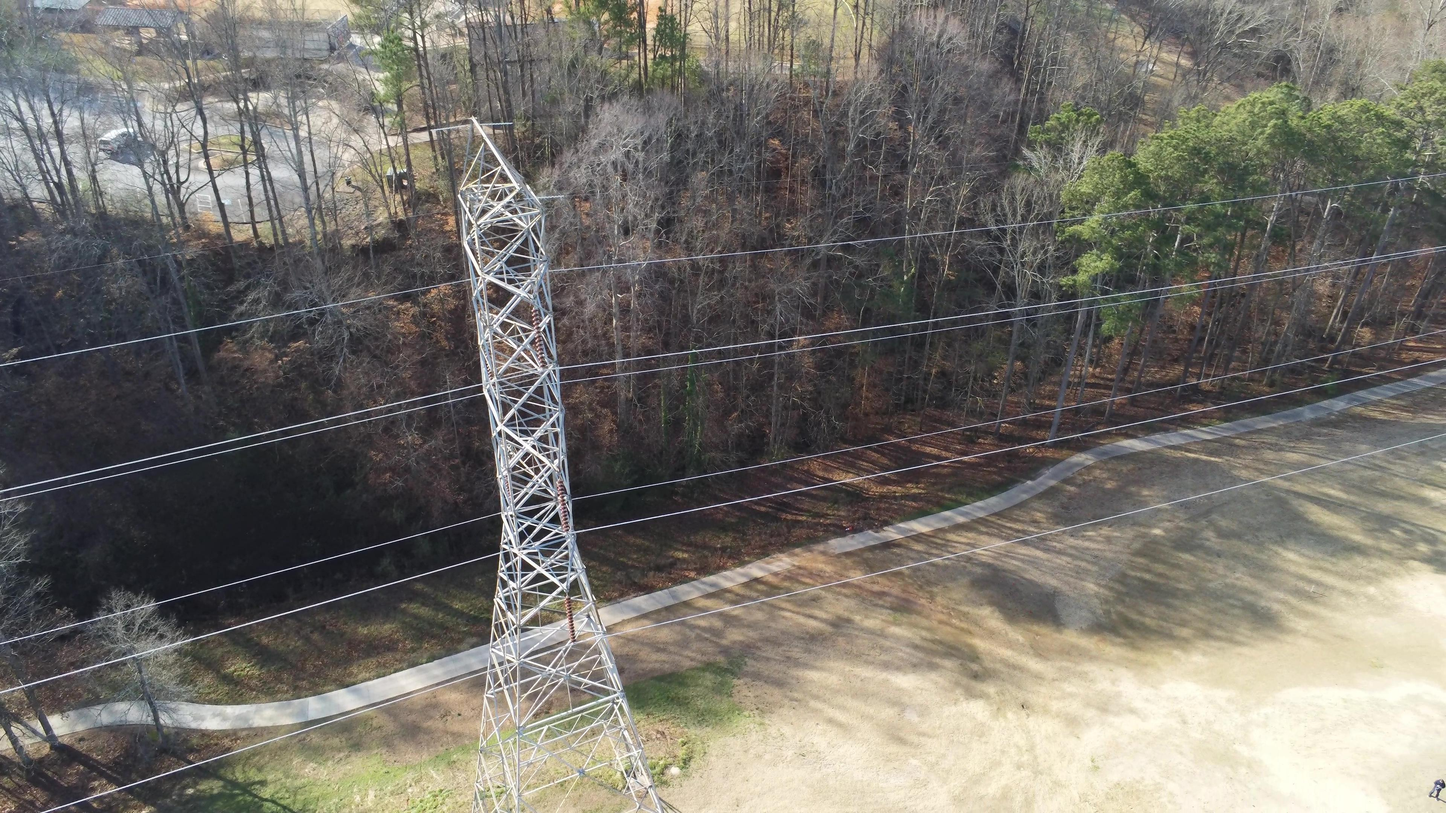power_tower: (458, 116, 665, 812)
